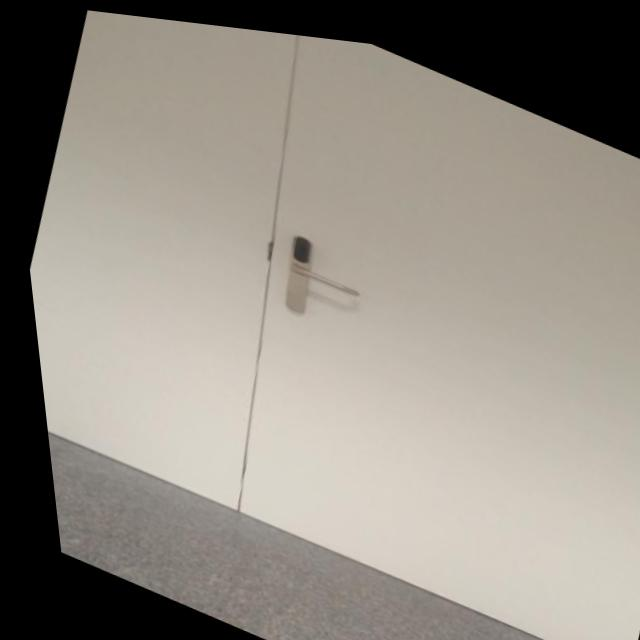door_handle: (275, 250, 362, 295)
